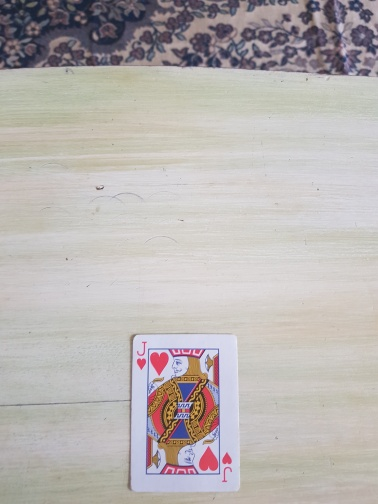jack: (128, 333, 242, 494)
